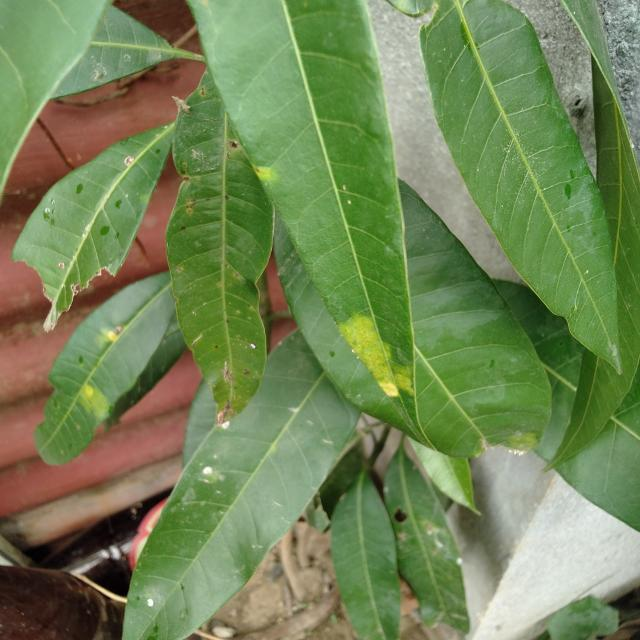blight: (334, 319, 442, 404), (76, 380, 118, 420), (252, 162, 292, 200)
